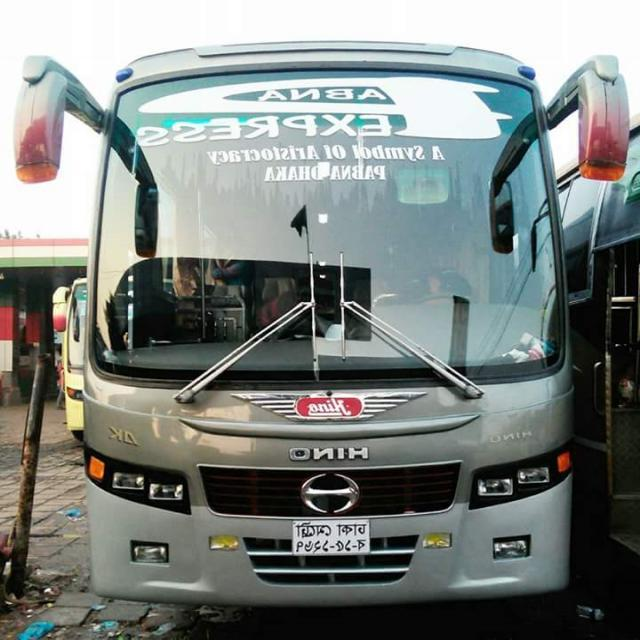Bus: (4, 15, 633, 627)
